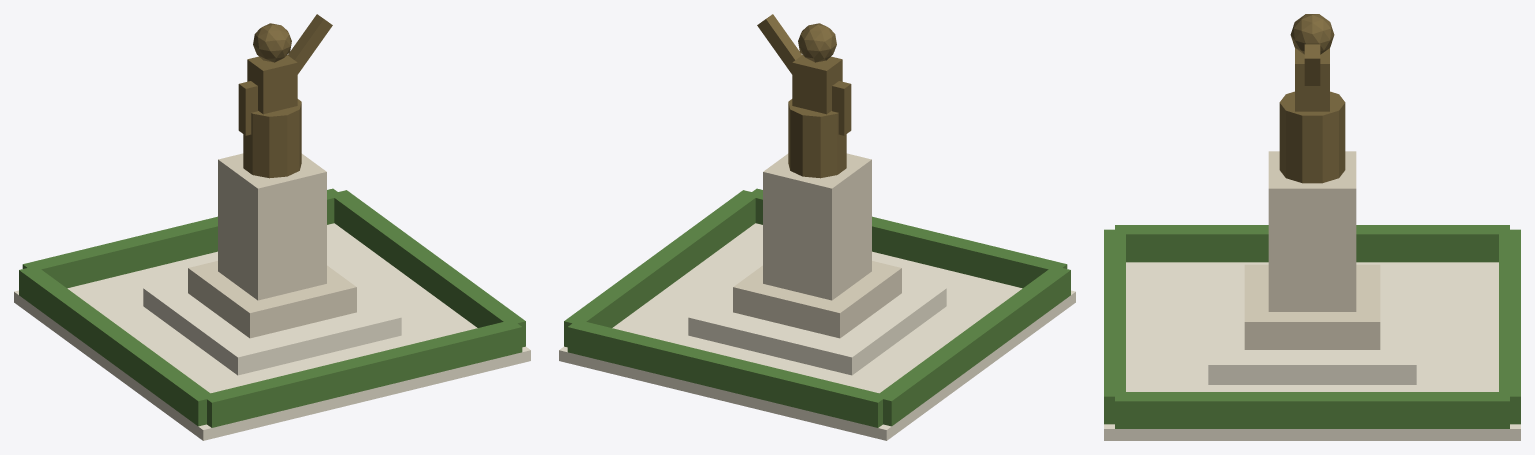
Rendered from statue.glb.
3 views of the same model, side by side, from view 1: azimuth 30°, elevation 25°; view 2: azimuth 150°, elevation 25°; view 3: azimuth 270°, elevation 25° (orthographic). The views are drawn at different scales.
Parts seen in each view (by area): view 1: statue; view 2: statue; view 3: statue.
Part boxes in pixels (x1,y1,x2,y2): statue: (14, 14, 530, 440); statue: (559, 14, 1075, 440); statue: (1104, 14, 1520, 440).
Bounding box in the file's own units: 1.9 × 1.7 × 1.9.
